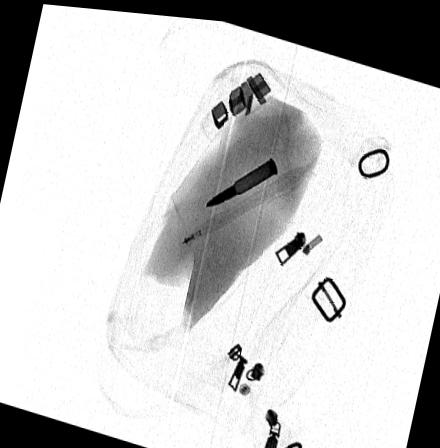Bullet: (201, 150, 279, 203)
